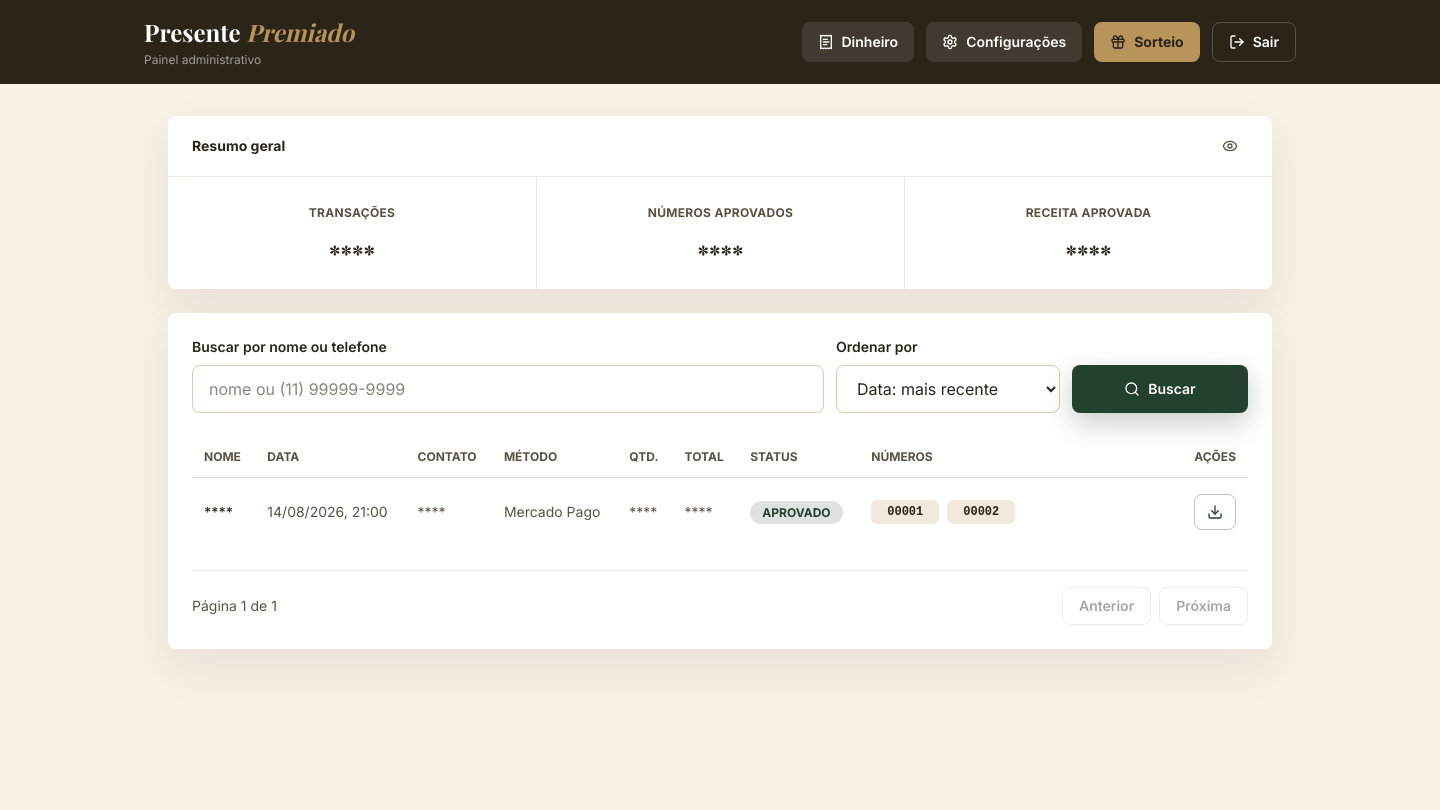
Test: App › shows global admin metrics and toggles their visibility
expect the text "00001" is shown: met, box [871,500,939,524]
expect the text "Guest User" is not shown: met
What coordinates should you click on to do the following:
click the button named "Mostrar valores"
I would click on:
 (1230, 146)
Its box is [1212,128,1248,164].
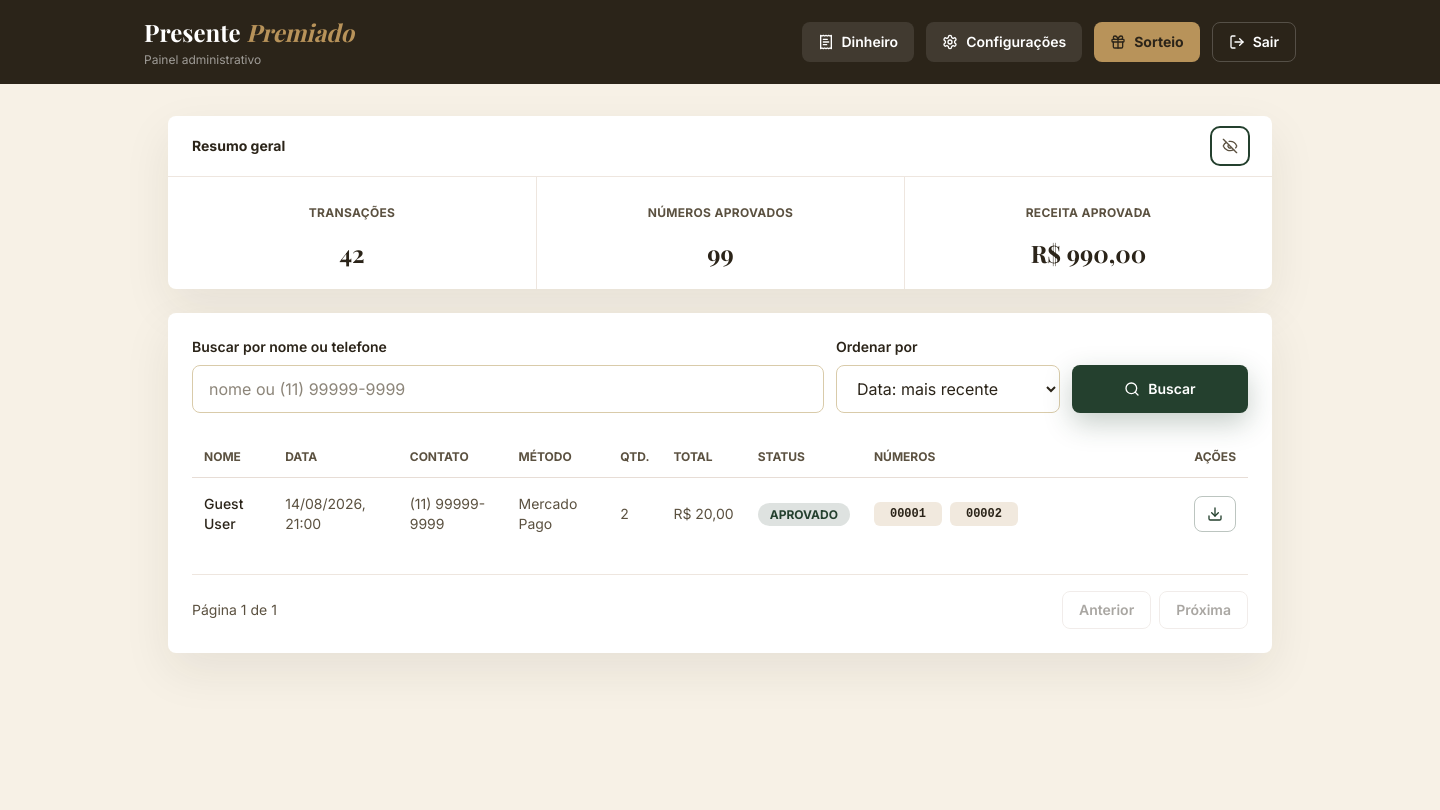
expect the text "42" is shown: met, box [339,237,365,269]
expect the text "99" is shown: met, box [707,237,734,269]
expect the text "R$ 990,00" is shown: met, box [1031,237,1146,269]
